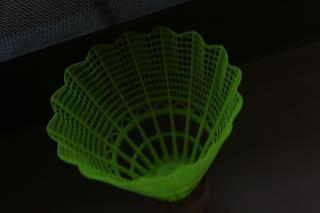shuttlecock: (46, 27, 242, 212)
